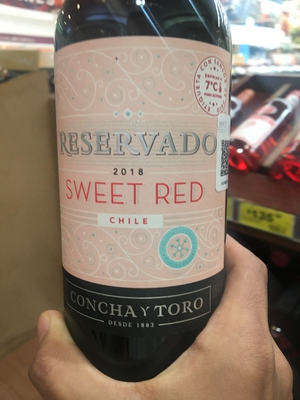reservado sweet red: (53, 4, 247, 357)
